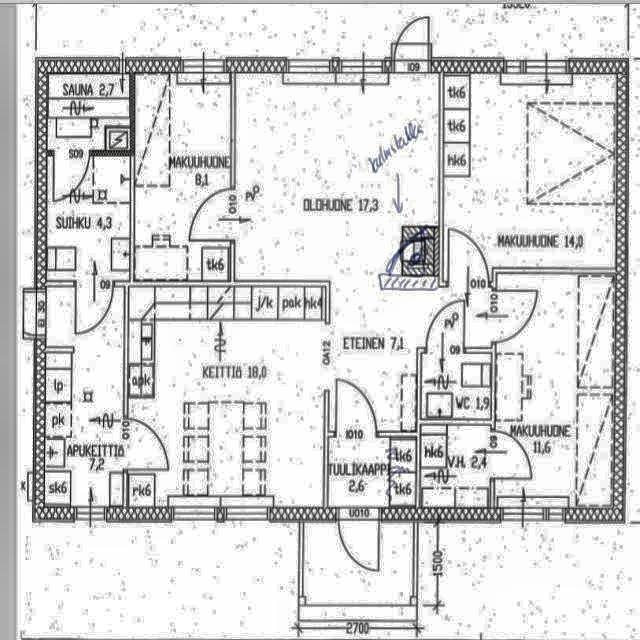room: (443, 74, 617, 282), (495, 273, 615, 508), (135, 74, 230, 280), (45, 286, 124, 506), (46, 156, 130, 280), (304, 523, 413, 605), (47, 74, 130, 150), (328, 437, 416, 507), (421, 425, 490, 507), (422, 354, 491, 418)
